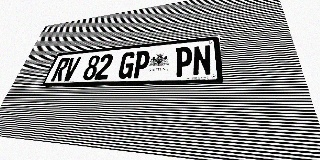2: (94, 53, 114, 80)
8: (81, 55, 102, 80)
G: (117, 51, 136, 79)
N: (192, 44, 212, 76)
P: (131, 50, 151, 78), (174, 46, 192, 77)
R: (50, 57, 71, 81)
V: (61, 56, 81, 81)
